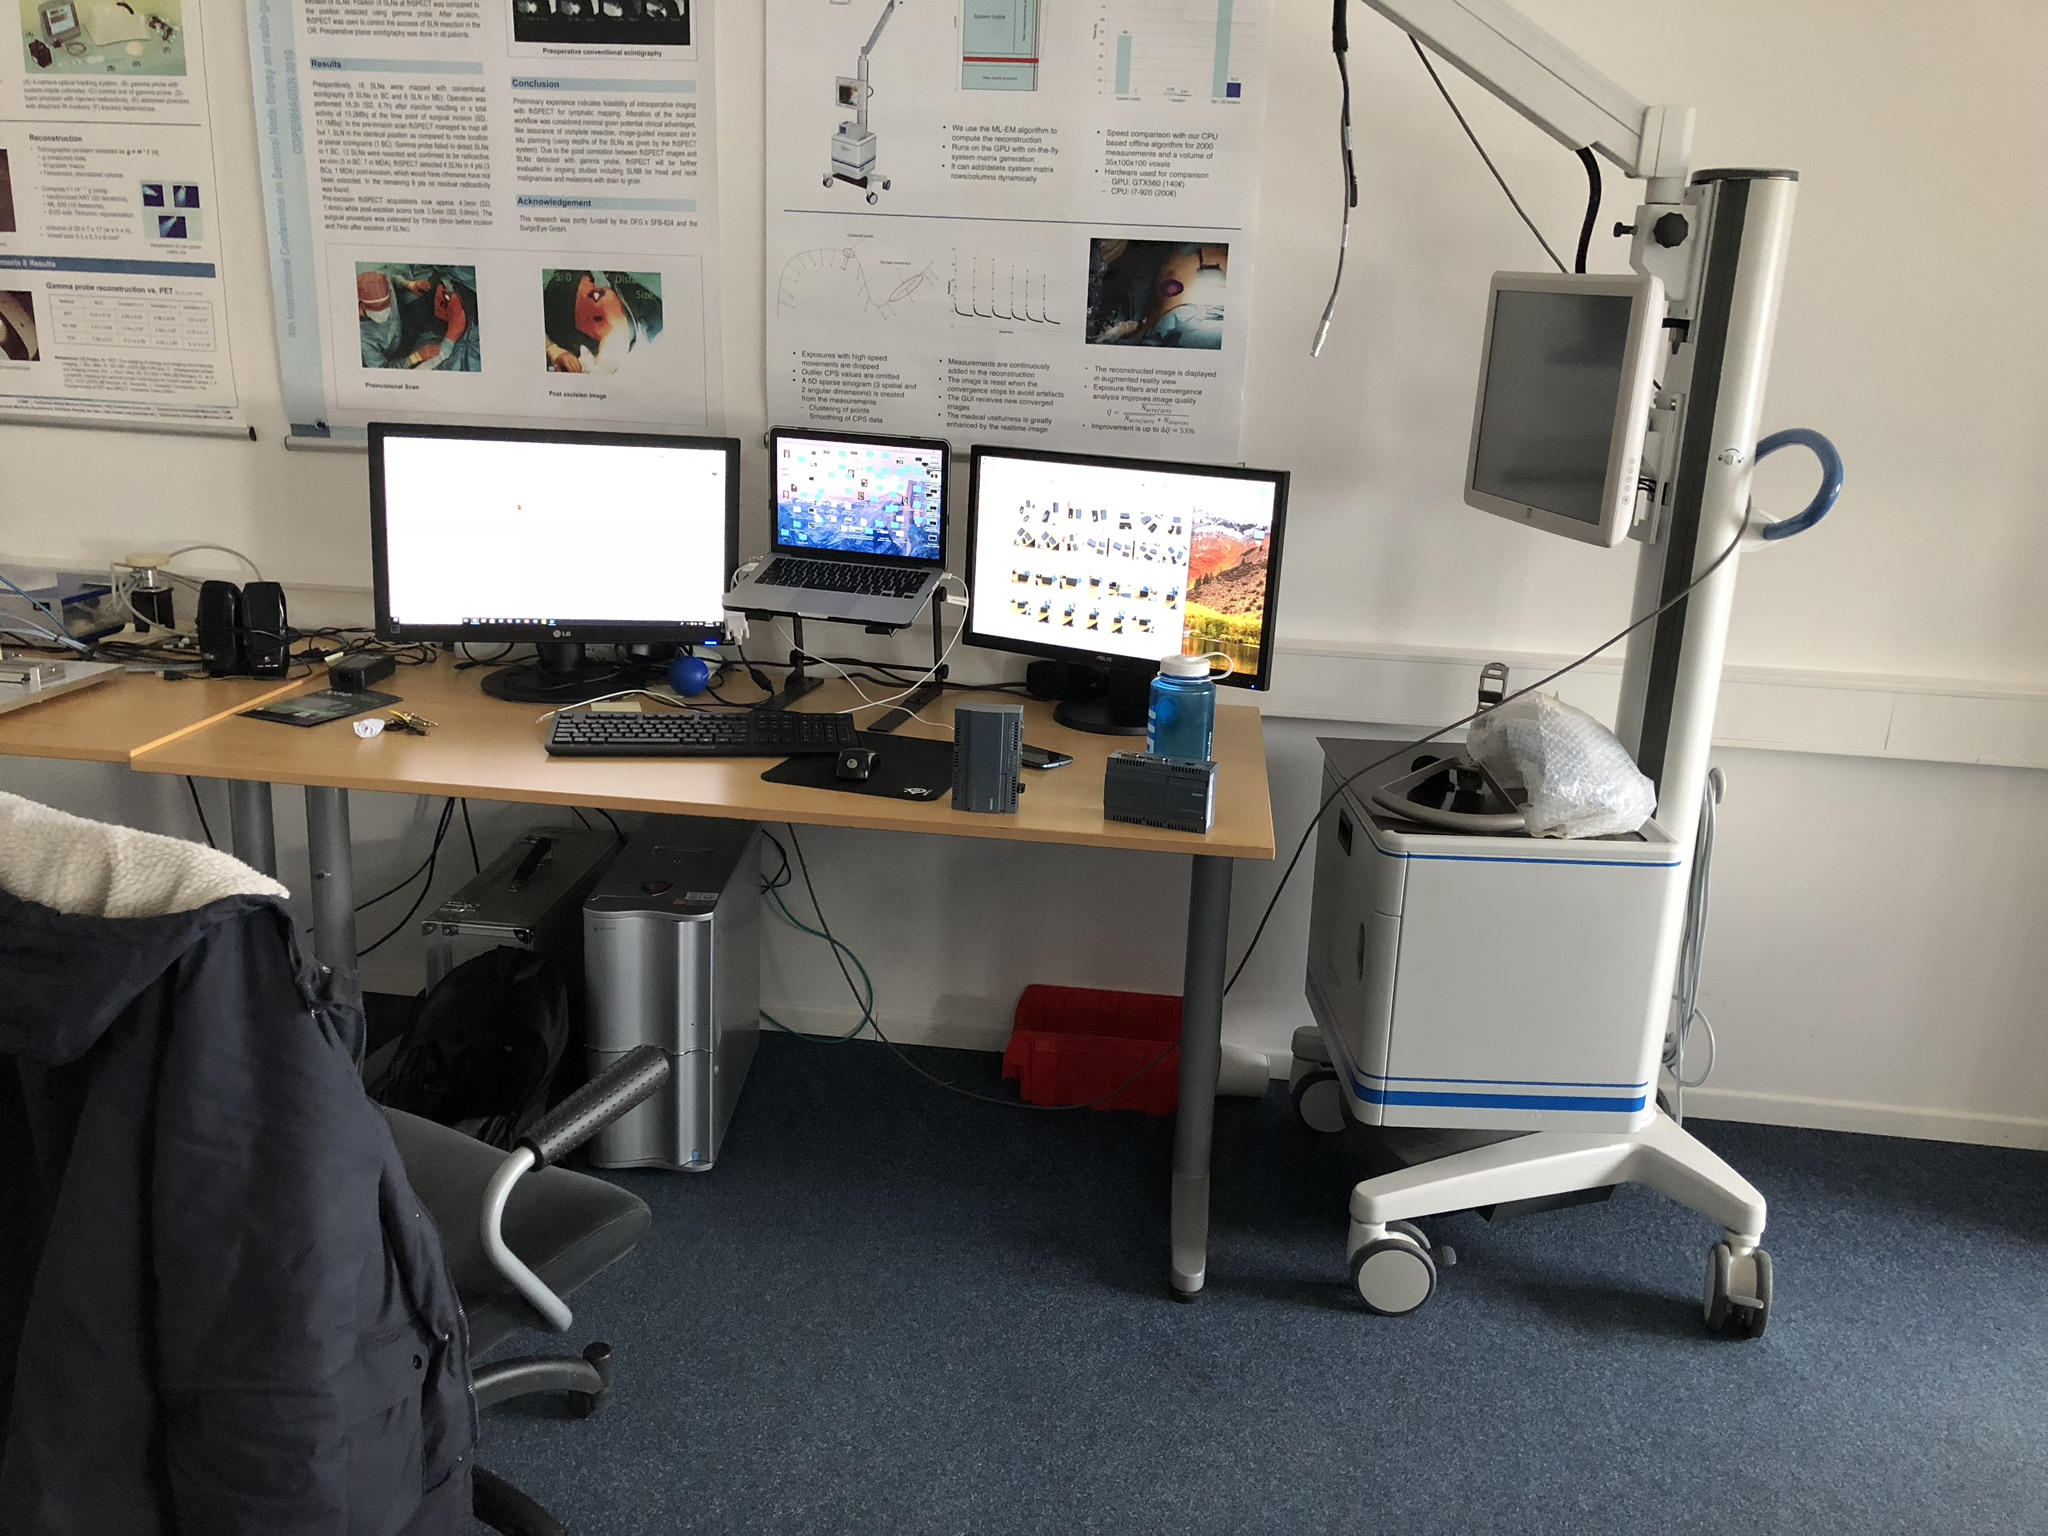device: (1103, 749, 1218, 836), (951, 702, 1027, 815)
